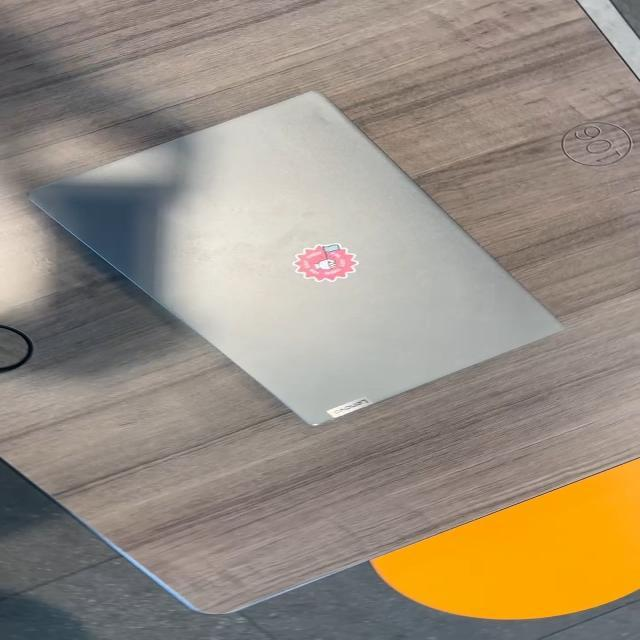laptop: (26, 88, 565, 428)
